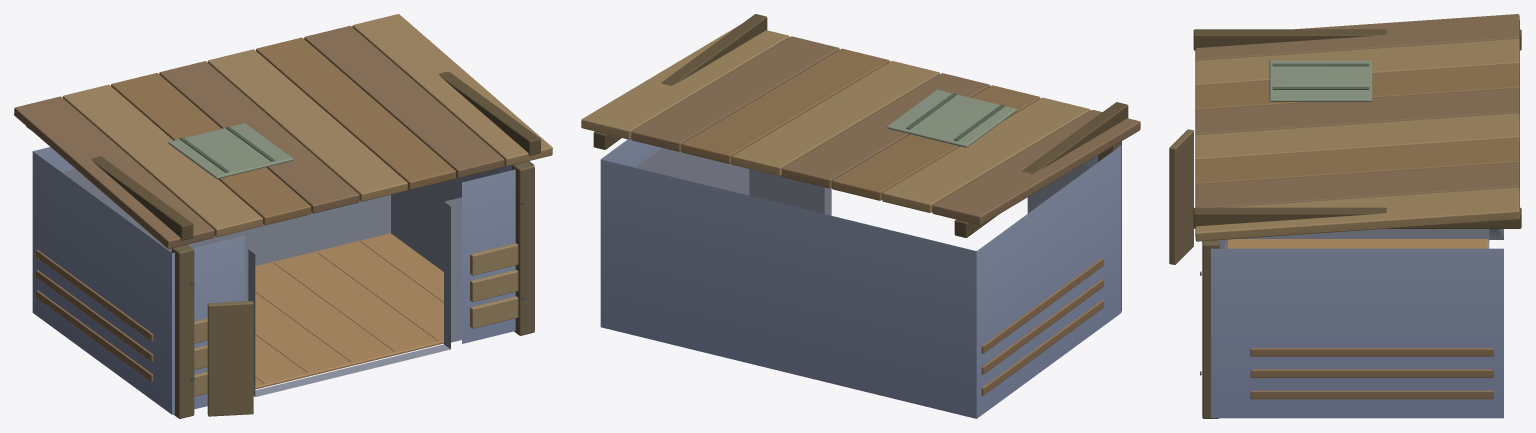
File: weathered-shed-a-BIbK1_xb.glb
3 renders of one model, left to right at view 1: azimuth 30°, elevation 25°; view 2: azimuth 150°, elevation 25°; view 3: azimuth 270°, elevation 25°, orthographic. The views are drawn at different scales.
Parts seen in each view (by area): view 1: body_ruined_body_house, interior_floor, roof_warped_wood.004, roof_warped_wood.006, roof_warped_wood.005, roof_warped_wood.001, roof_warped_wood, roof_warped_wood.003, roof_warped_wood.007, roof_warped_wood.002, body_half_open_shed_door, roof_old_metal_patch (+10 smaller); view 2: body_ruined_body_house, roof_warped_wood.006, roof_warped_wood.005, roof_warped_wood.004, roof_warped_wood.001, roof_warped_wood, roof_warped_wood.007, roof_warped_wood.003, roof_warped_wood.002, roof_old_metal_patch, roof_edge_beam, roof_edge_beam.001 (+3 smaller); view 3: body_ruined_body_house, roof_warped_wood.007, roof_warped_wood.004, roof_warped_wood.005, roof_warped_wood.006, roof_warped_wood.003, roof_warped_wood.001, roof_warped_wood, roof_warped_wood.002, roof_old_metal_patch, roof_edge_beam.001, body_half_open_shed_door (+7 smaller).
Part boxes in pixels (x1,y1,x2,y2): body_ruined_body_house: (32, 147, 534, 414); interior_floor: (255, 233, 443, 389); roof_warped_wood.004: (207, 49, 407, 201); roof_warped_wood.006: (304, 25, 504, 178); roof_warped_wood.005: (256, 37, 456, 189); roof_warped_wood.001: (62, 84, 262, 237); roof_warped_wood: (14, 96, 214, 248); roof_warped_wood.003: (159, 61, 359, 213); roof_warped_wood.007: (352, 14, 552, 166); roof_warped_wood.002: (111, 73, 311, 225); body_half_open_shed_door: (207, 301, 253, 416); roof_old_metal_patch: (168, 123, 293, 179); body_ruined_body_house: (600, 139, 1121, 418); roof_warped_wood.006: (631, 36, 839, 151); roof_warped_wood.005: (681, 48, 889, 163); roof_warped_wood.004: (731, 61, 939, 176); roof_warped_wood.001: (882, 97, 1090, 212); roof_warped_wood: (932, 110, 1140, 225); roof_warped_wood.007: (581, 24, 789, 139); roof_warped_wood.003: (782, 73, 990, 188); roof_warped_wood.002: (832, 85, 1040, 200); roof_old_metal_patch: (886, 89, 1016, 147); roof_edge_beam: (954, 102, 1128, 237); roof_edge_beam.001: (593, 14, 767, 149); body_ruined_body_house: (1211, 229, 1503, 418); roof_warped_wood.007: (1195, 187, 1519, 241); roof_warped_wood.004: (1195, 113, 1519, 159); roof_warped_wood.005: (1195, 138, 1519, 184); roof_warped_wood.006: (1195, 162, 1519, 207); roof_warped_wood.003: (1195, 88, 1519, 135); roof_warped_wood.001: (1195, 38, 1519, 85); roof_warped_wood: (1195, 14, 1519, 60); roof_warped_wood.002: (1195, 63, 1519, 110); roof_old_metal_patch: (1269, 60, 1372, 101); roof_edge_beam.001: (1193, 207, 1521, 228); body_half_open_shed_door: (1169, 129, 1193, 264).
Size of the model in its own units: 319 by 163 by 241.
Materials: 14 (1 with a texture image).
